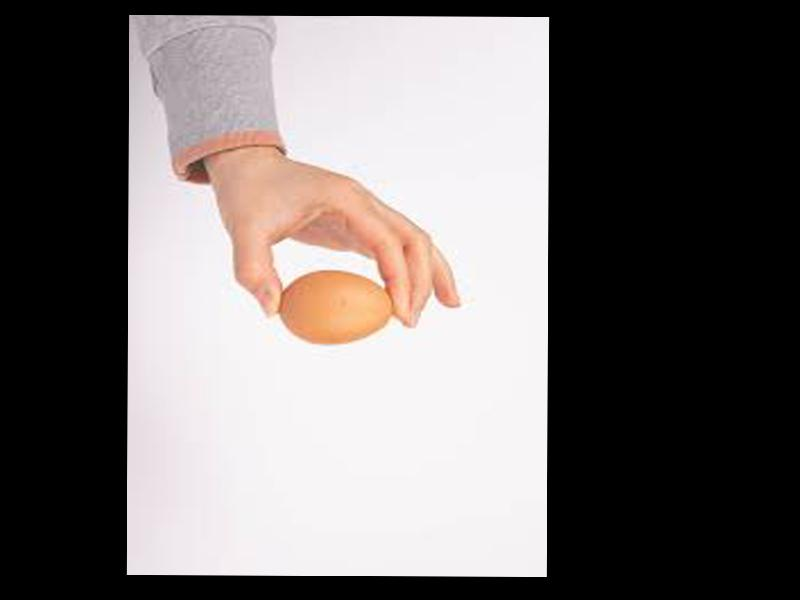Eggs: (281, 272, 395, 344)
